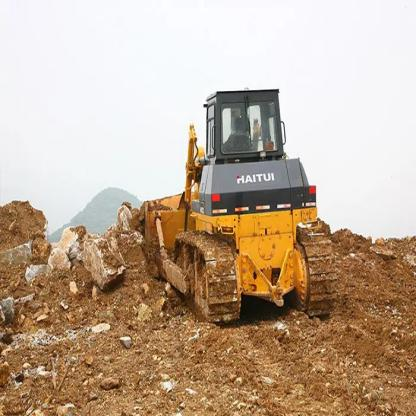bull_dozer/loader/grader: (126, 75, 346, 328)
